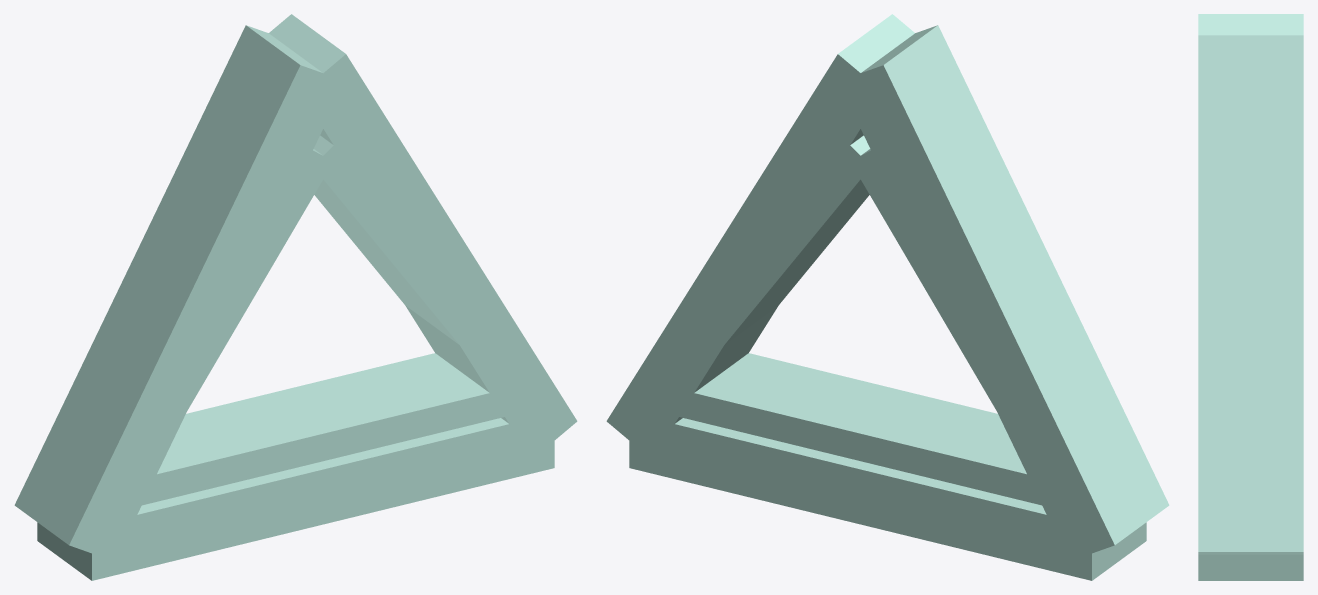
The model's file is mineral-pediment.obj.
3 renders of one model, left to right at view 1: azimuth 30°, elevation 25°; view 2: azimuth 150°, elevation 25°; view 3: azimuth 270°, elevation 25°, orthographic. The views are drawn at different scales.
Size of the model in its own units: 0.9668 by 0.8448 by 0.18.
